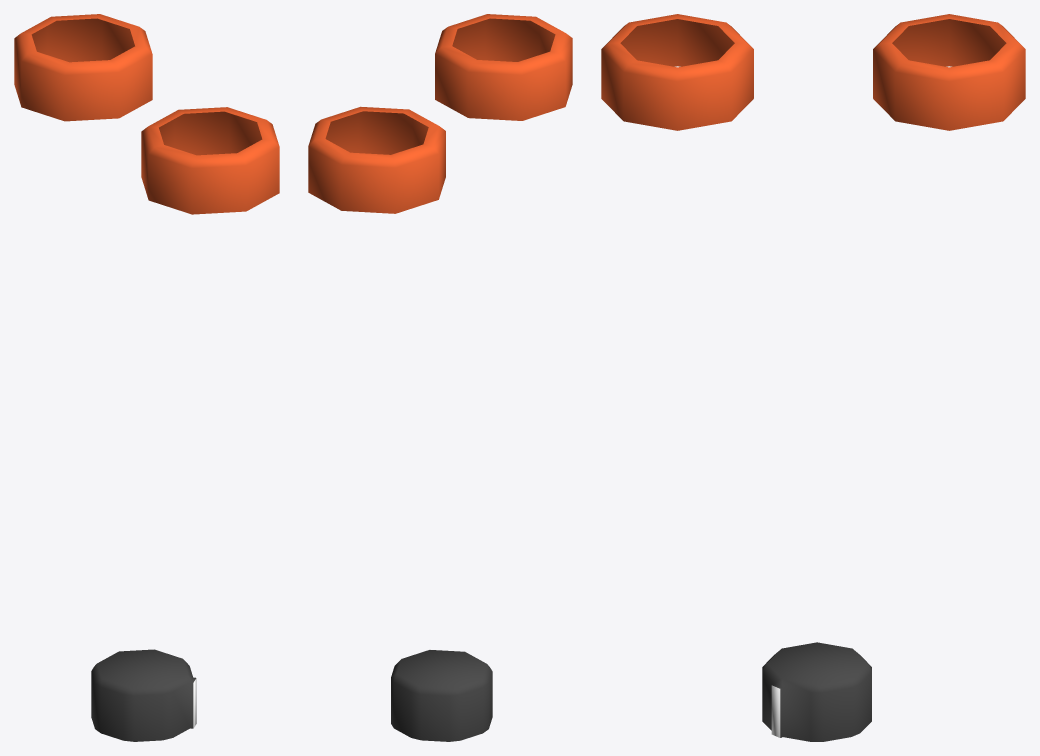
Rendered from Rotary.fbx.
3 views of the same model, side by side, from view 1: azimuth 30°, elevation 25°; view 2: azimuth 150°, elevation 25°; view 3: azimuth 270°, elevation 25° (orthographic). The views are drawn at different scales.
Parts seen in each view (by area): view 1: AntennaRotaryBase, RotaryKnob; view 2: AntennaRotaryBase, RotaryKnob; view 3: AntennaRotaryBase, RotaryKnob.
Part boxes in pixels (x1=…): AntennaRotaryBase: x1=14, y1=14, x2=279, y2=214; RotaryKnob: x1=91, y1=649, x2=196, y2=741; AntennaRotaryBase: x1=308, y1=14, x2=572, y2=213; RotaryKnob: x1=391, y1=650, x2=492, y2=741; AntennaRotaryBase: x1=601, y1=14, x2=1025, y2=130; RotaryKnob: x1=762, y1=642, x2=871, y2=741.
Size of the model in its own units: 5.62 by 27.5 by 15.63.
